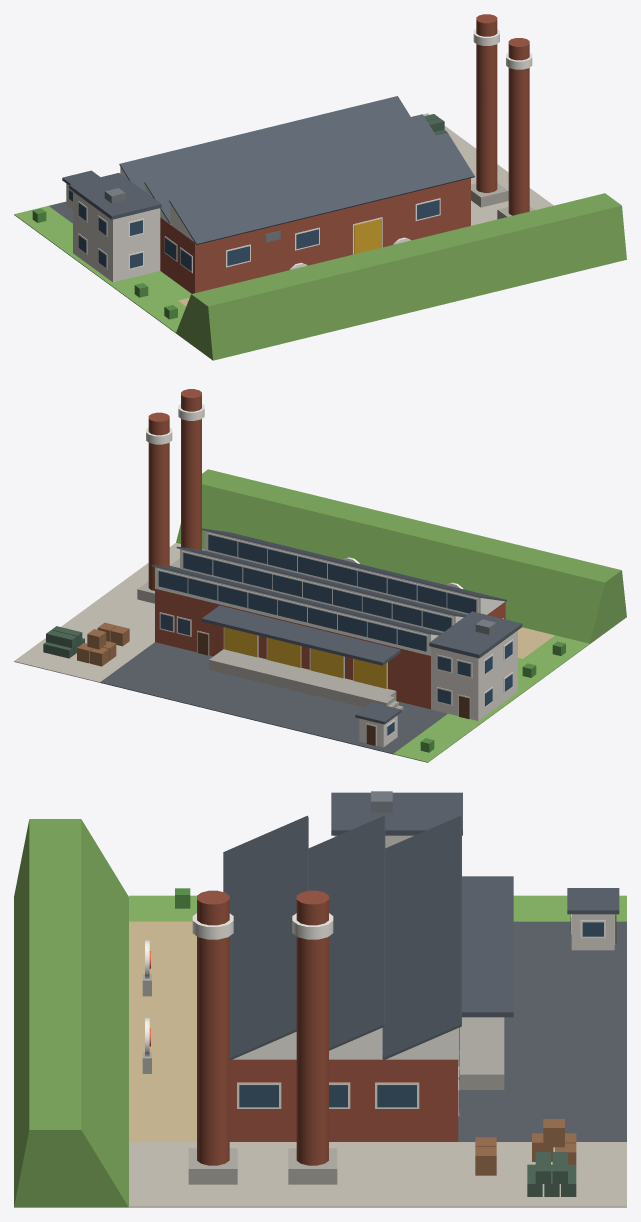
Rendered from armsfactory.glb.
The picture shows the model from 3 angles, top to bottom: view 1: azimuth 30°, elevation 25°; view 2: azimuth 150°, elevation 25°; view 3: azimuth 270°, elevation 25°; orthographic projection. The views are drawn at different scales.
Parts seen in each view (by area): view 1: earth_bank, roof (×4), production_hall, smoke_stack (×2), office, lawn, yard, garage_door, stack_plinth; view 2: earth_bank, yard (×2), roof (×6), smoke_stack (×2), production_hall, loading_dock, office, sawtooth (×3), lawn, band_frame (×3), garage_door (×4), range_floor (+1 smaller); view 3: roof (×6), yard (×2), earth_bank, smoke_stack (×2), range_floor, production_hall, lawn, sawtooth (×3), loading_dock, stack_plinth (×2), window_glass (×2), stack_band (×2) (+2 smaller).
Part boxes in pixels (box(x1,y1,x2,y2)): earth_bank: box(176, 193, 626, 360); roof (×4): box(69, 96, 474, 244); production_hall: box(160, 178, 470, 293); smoke_stack (×2): box(476, 14, 529, 215); office: box(73, 192, 160, 282); lawn: box(14, 206, 191, 333); yard: box(423, 113, 553, 225); garage_door: box(354, 218, 381, 254); stack_plinth: box(471, 183, 508, 207); earth_bank: box(176, 469, 626, 643); yard (×2): box(14, 543, 447, 754); roof (×6): box(152, 528, 522, 724); smoke_stack (×2): box(148, 389, 201, 590); production_hall: box(155, 589, 505, 709); loading_dock: box(209, 649, 396, 707); office: box(431, 630, 517, 720); sawtooth (×3): box(155, 531, 504, 655); lawn: box(393, 635, 589, 762); band_frame (×3): box(157, 533, 478, 652); garage_door (×4): box(224, 627, 386, 688); range_floor: box(518, 627, 554, 658); roof (×6): box(223, 792, 619, 1060); yard (×2): box(129, 921, 626, 1207); earth_bank: box(14, 819, 128, 1207); smoke_stack (×2): box(197, 890, 328, 1165); range_floor: box(129, 921, 196, 1141); production_hall: box(229, 1059, 458, 1141); lawn: box(129, 895, 626, 921); sawtooth (×3): box(233, 1028, 458, 1059); loading_dock: box(460, 1017, 504, 1089); stack_plinth (×2): box(188, 1148, 337, 1184); window_glass (×2): box(239, 1085, 416, 1107); stack_band (×2): box(192, 913, 333, 939).
Bounding box in the file's own units: 48 × 20 × 40.
